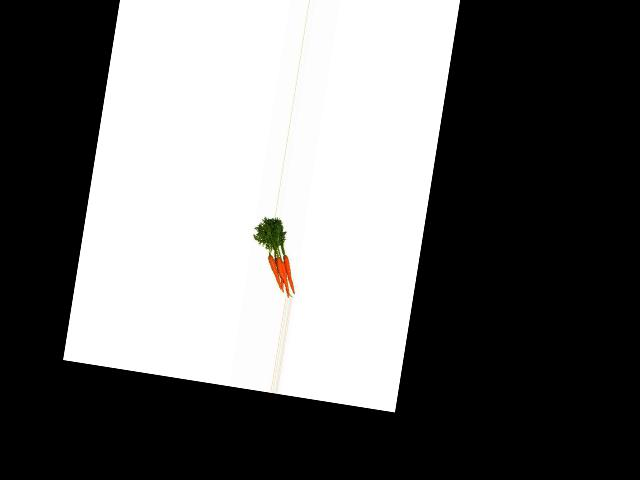carrot: (276, 252, 304, 295)
